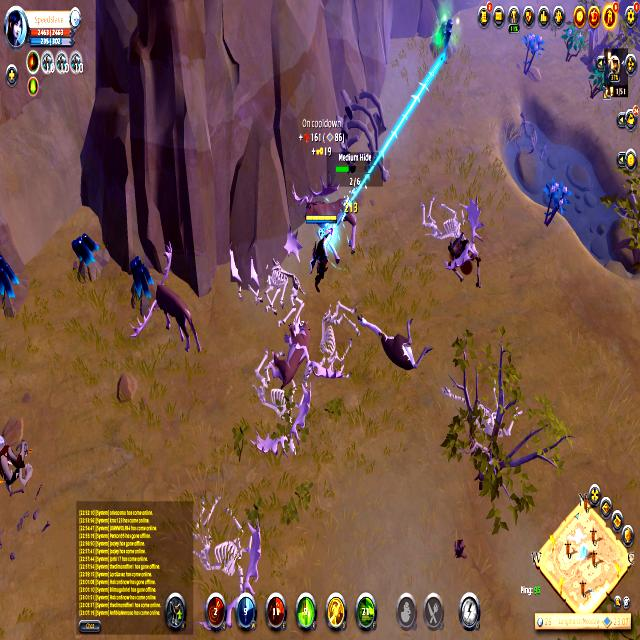hide: (542, 173, 570, 225), (522, 29, 544, 80), (562, 18, 584, 62)
mob: (288, 176, 371, 256), (354, 307, 436, 380), (270, 309, 313, 393)
ore: (124, 238, 206, 366), (0, 427, 37, 501)
player: (70, 223, 109, 289), (124, 248, 162, 313), (0, 250, 32, 316), (427, 14, 461, 66)
red: (303, 211, 337, 292)
